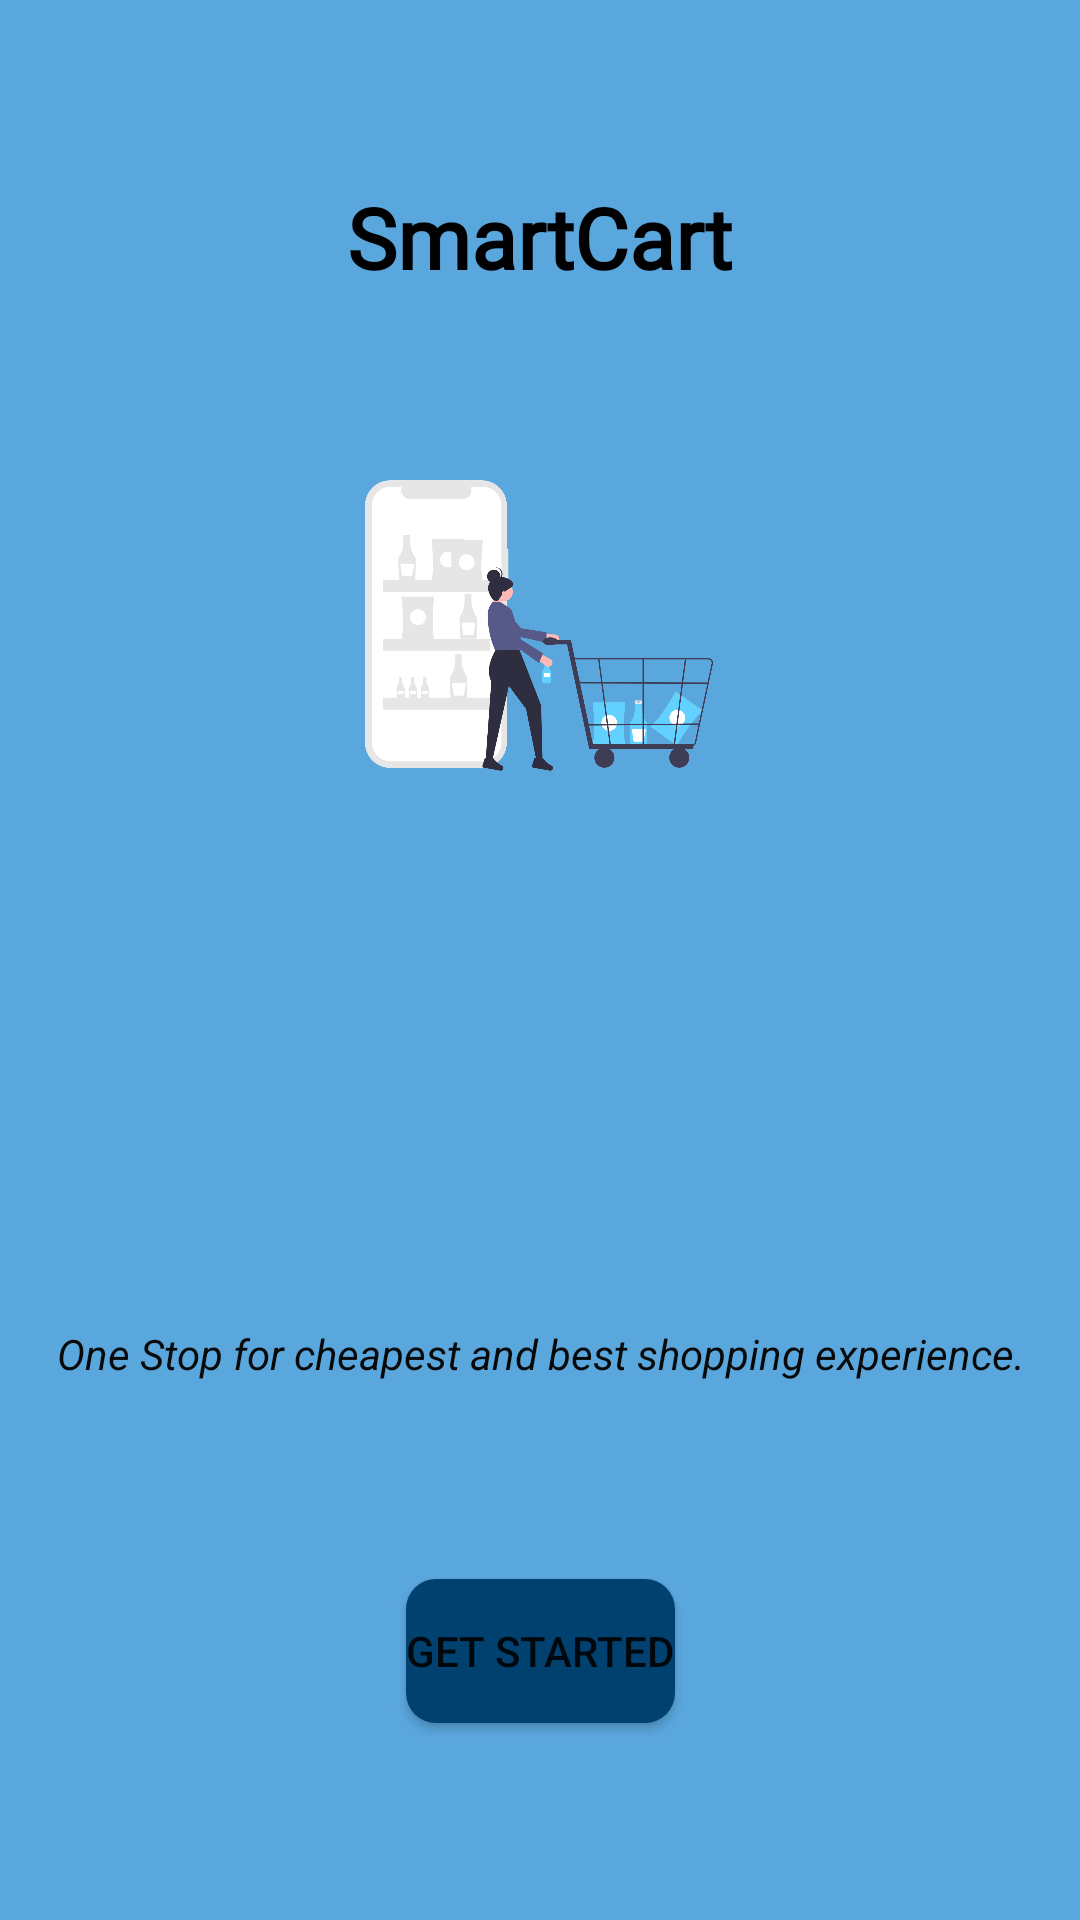

Screen size 1080*1920. Icon name, then its center in pixels as (x=x, y=y):
shoppingcart: (x=539, y=625)
